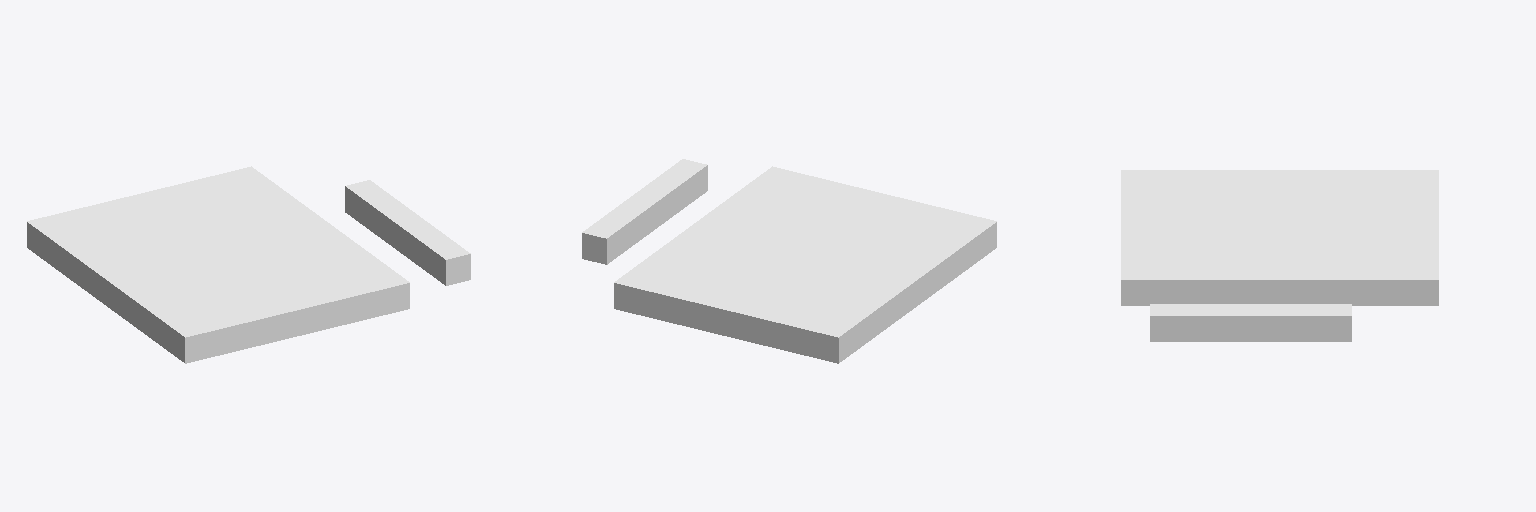
Rendered from notebook1.obj.
3 renders of one model, left to right at view 1: azimuth 30°, elevation 25°; view 2: azimuth 150°, elevation 25°; view 3: azimuth 270°, elevation 25°, orthographic.
Size of the model in its own units: 0.6 by 0.05 by 0.55.